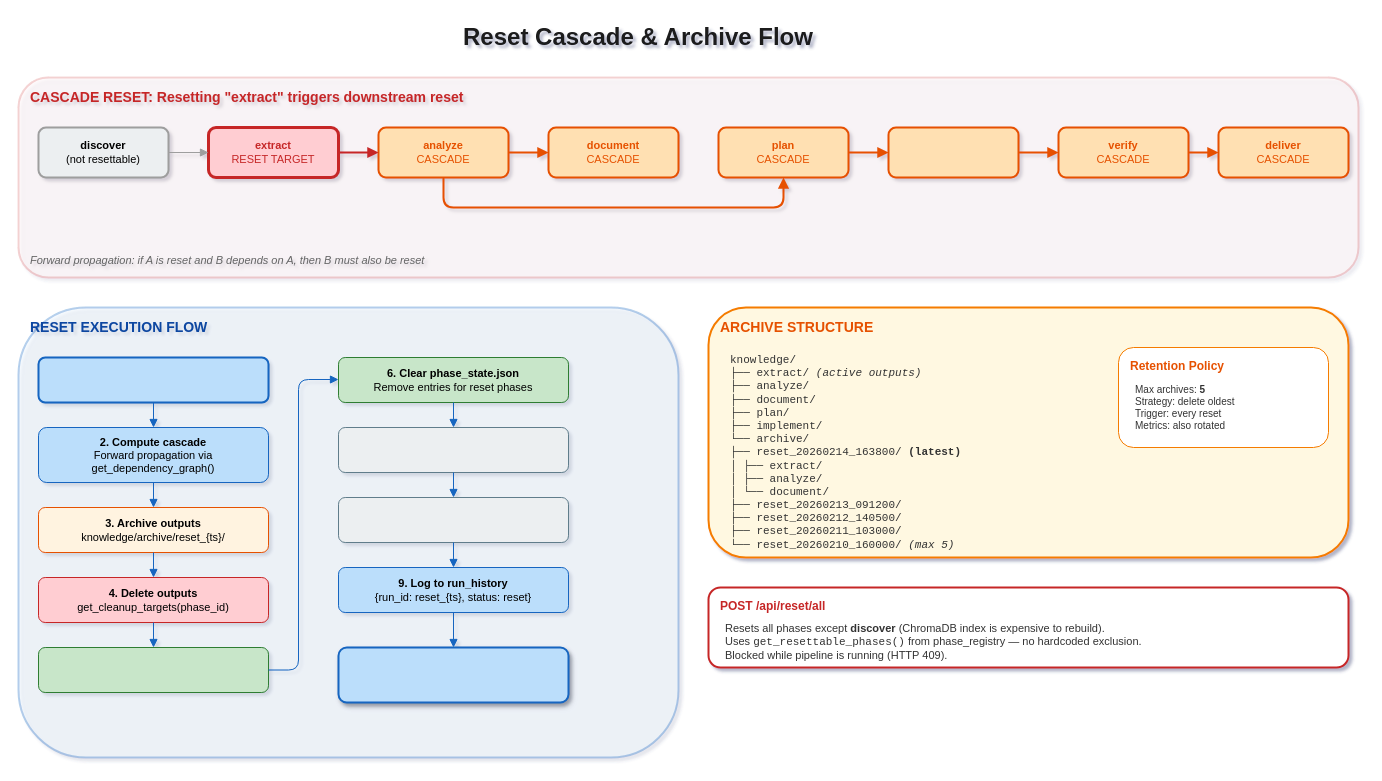
Image size: 1382x781. Some labels were removed from this diagram. Here are the shapes that lost their labels. From the top down, the centre of each, then its label:
the point at 953,152: implement CASCADE
the point at 153,379: 1. POST /api/reset/execute {phase_ids, cascade: true}
the point at 453,449: 7. Rotate metrics + logs archive_metrics()
the point at 453,519: 8. Cleanup old archives Keep max 5, delete oldest
the point at 153,669: 5. Recreate empty dirs mkdir for directory phases
the point at 454,676: Response {reset_phases, deleted_count, archive_path, timestamp}
